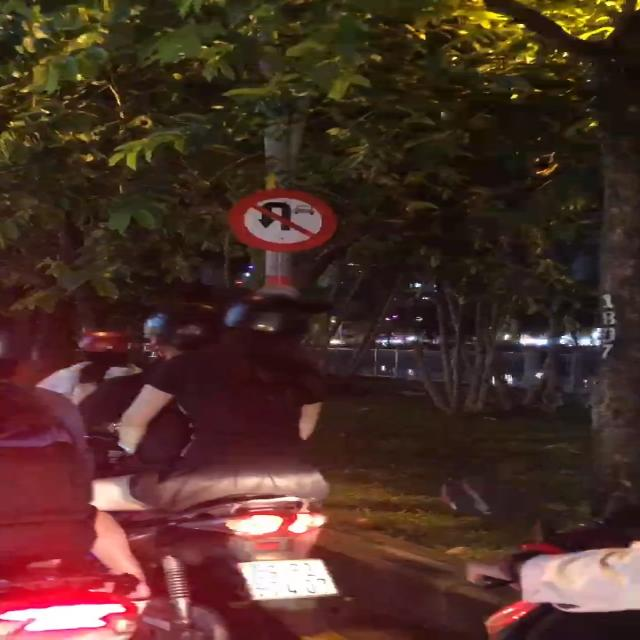Bien bao cam quay dau xe: (224, 190, 339, 254)
